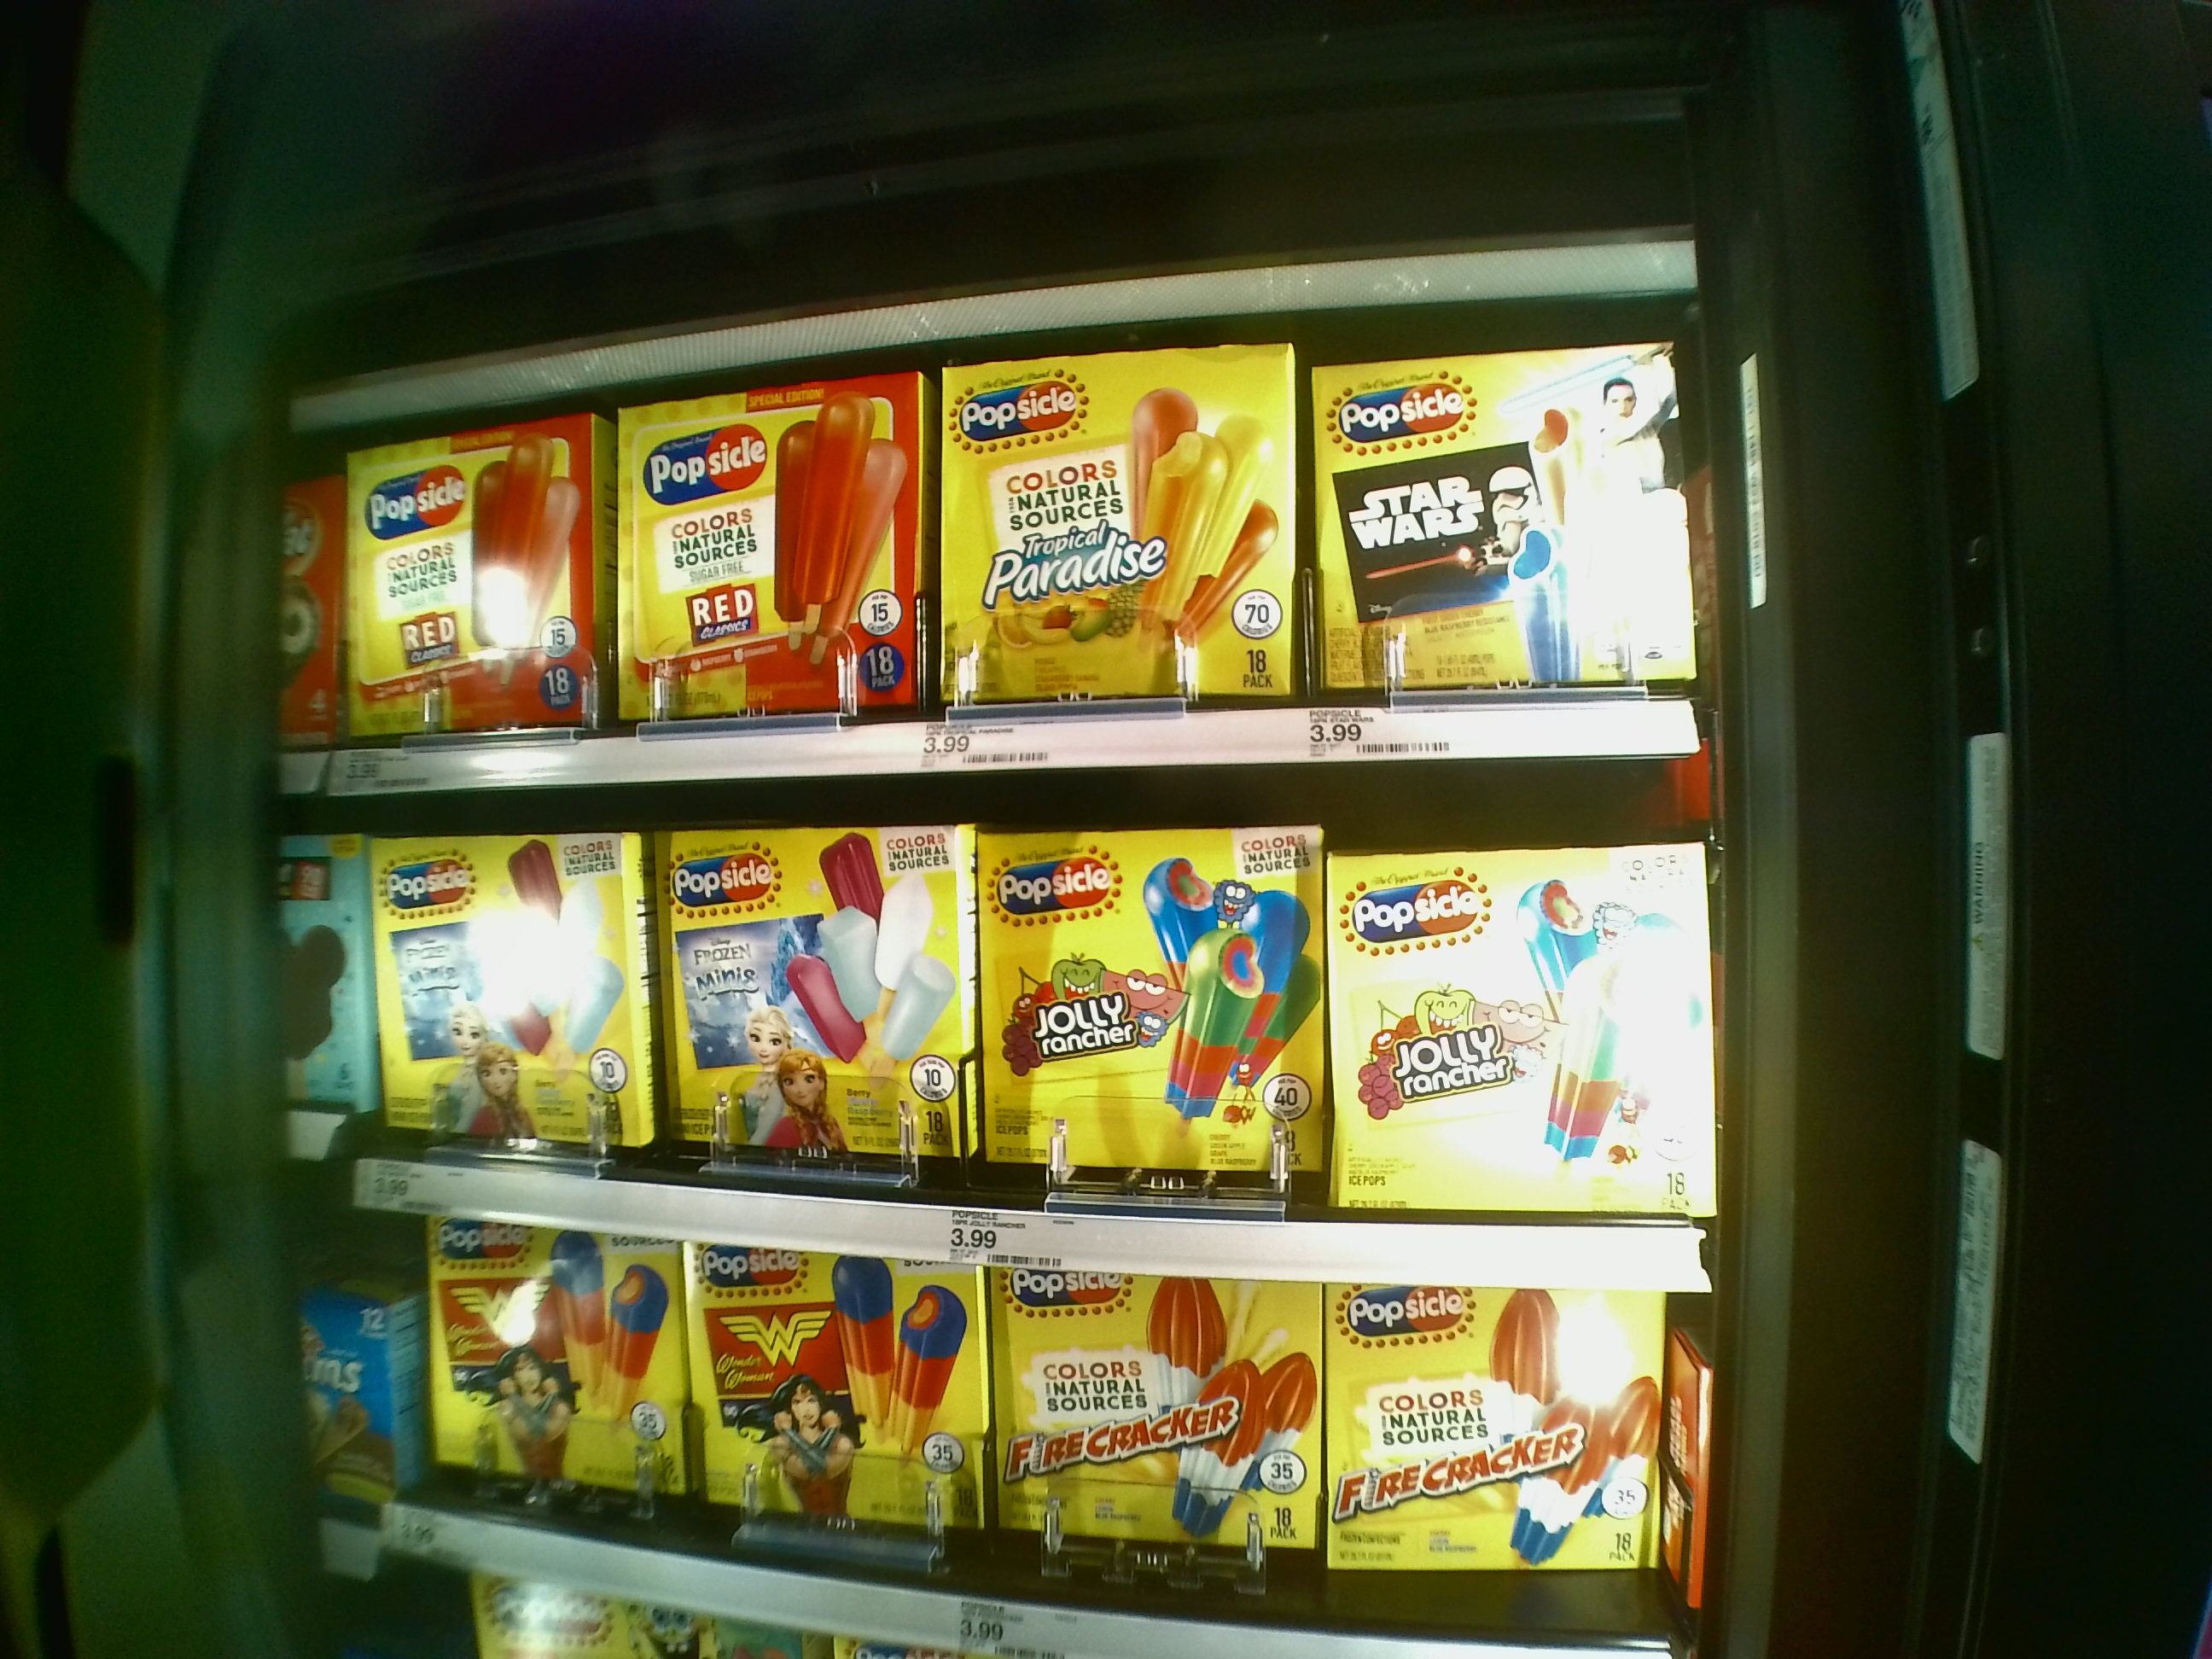shelf: (348, 772, 1710, 1218), (421, 1215, 1703, 1659), (322, 392, 1691, 742)
